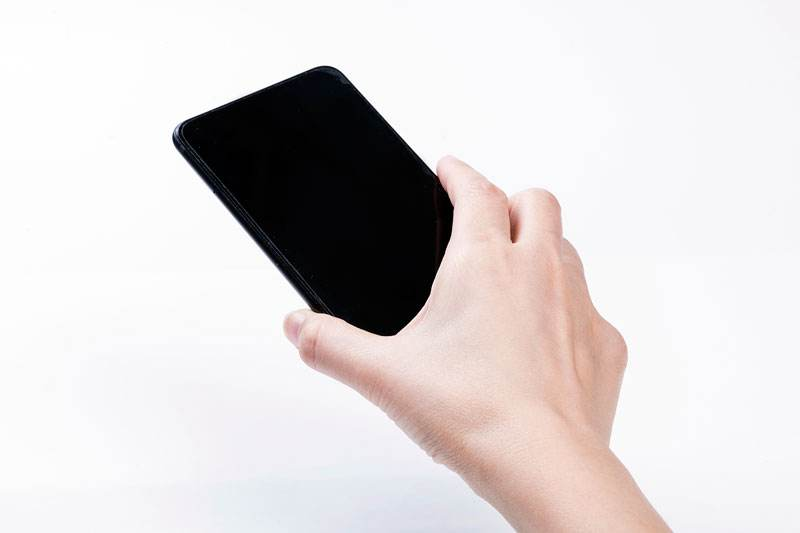phone: (162, 57, 640, 470)
